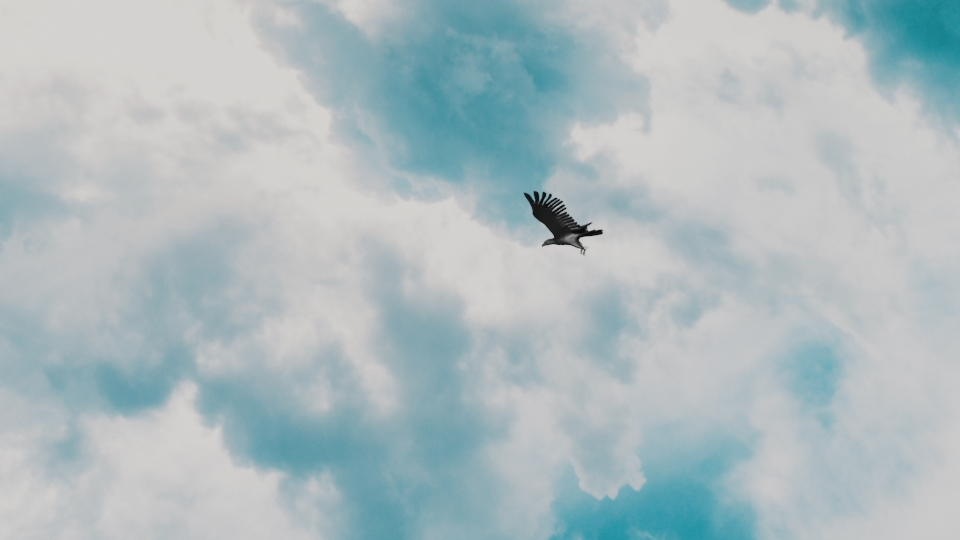bird: (520, 190, 604, 257)
